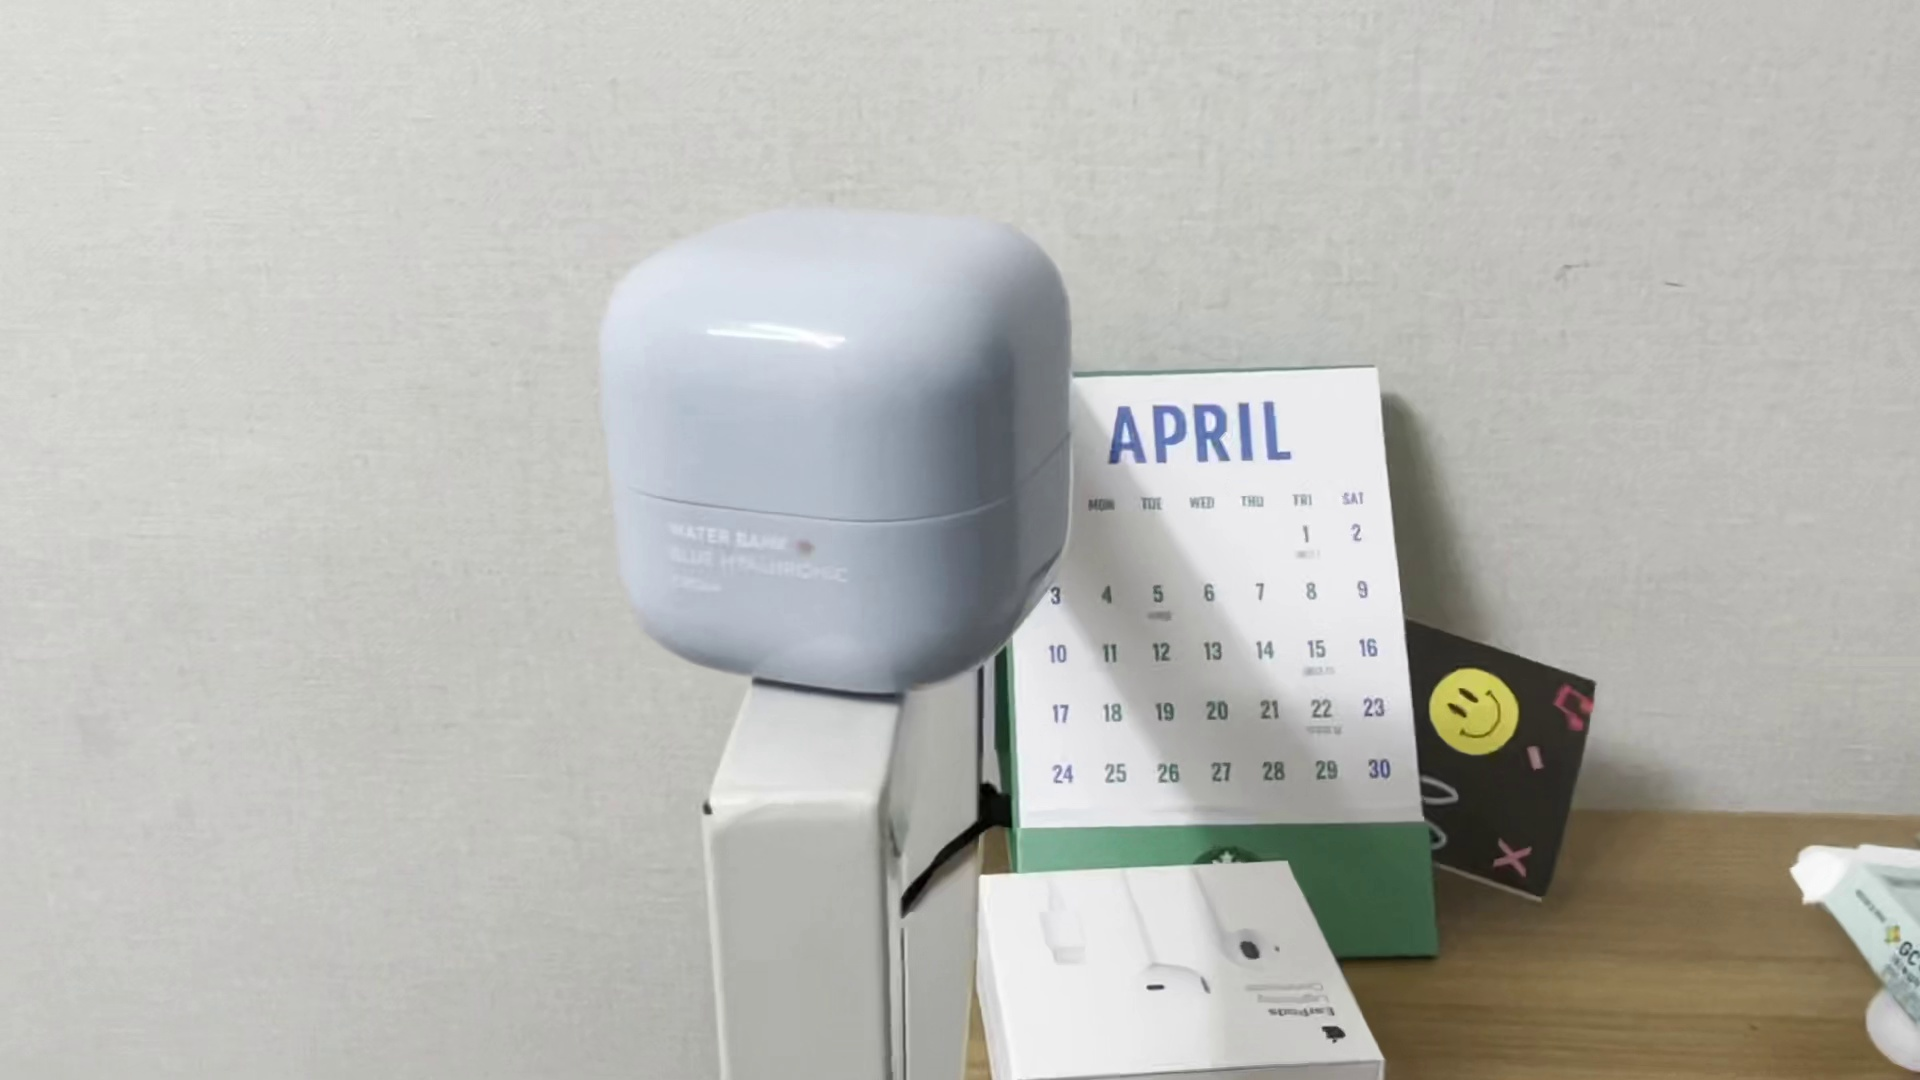cream: (599, 196, 1081, 707)
